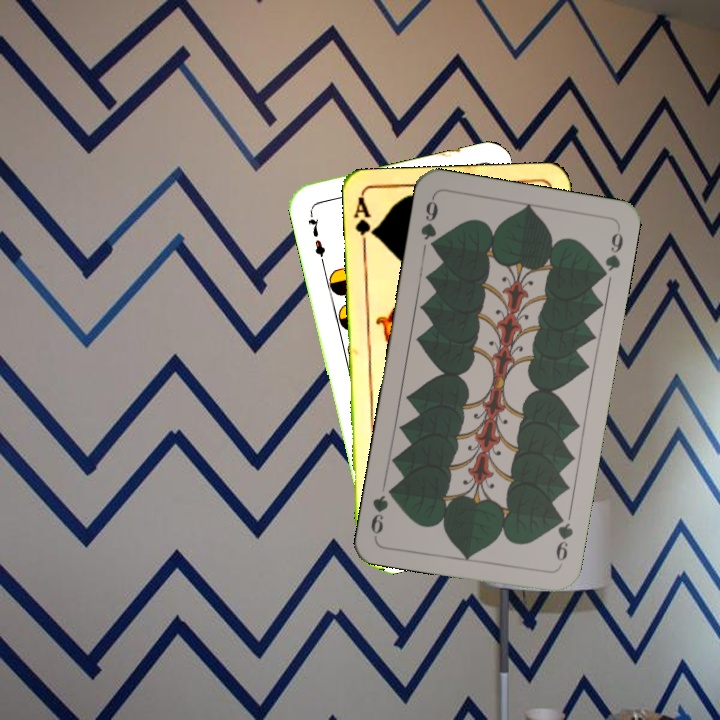E7: (303, 207, 328, 266)
G9: (416, 193, 441, 254), (551, 509, 576, 569)
GA: (350, 194, 378, 253)
